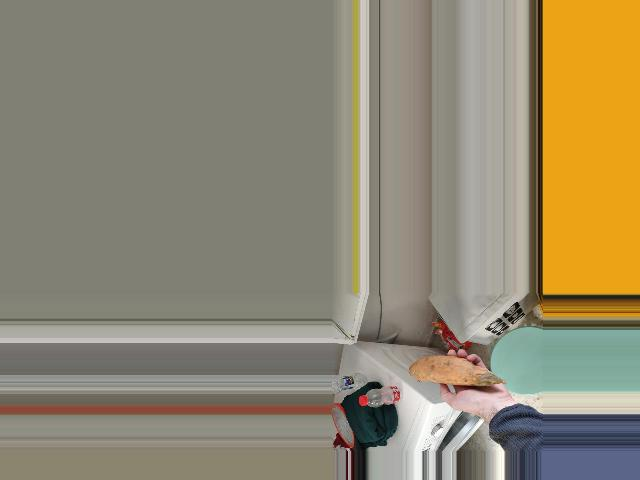sweet_potato: (418, 355, 495, 388)
